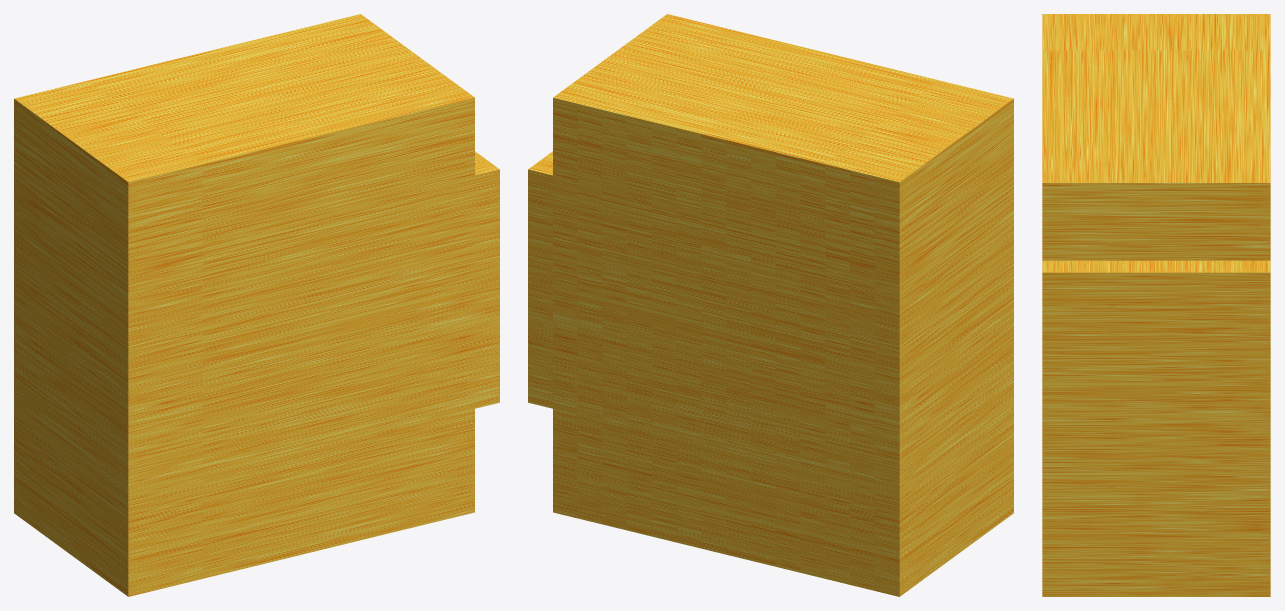
File: tier2_piece_12.obj
The picture shows the model from 3 angles, left to right: view 1: azimuth 30°, elevation 25°; view 2: azimuth 150°, elevation 25°; view 3: azimuth 270°, elevation 25°; orthographic projection.
Visible parts, largest first — view 1: tier2_piece_12; view 2: tier2_piece_12; view 3: tier2_piece_12.
Part boxes in pixels (box(x1,y1,x2,y2)): tier2_piece_12: box(14, 14, 499, 596); tier2_piece_12: box(528, 14, 1013, 596); tier2_piece_12: box(1042, 14, 1270, 596).
Bounding box in the file's own units: 0.9375 × 1 × 0.5.
